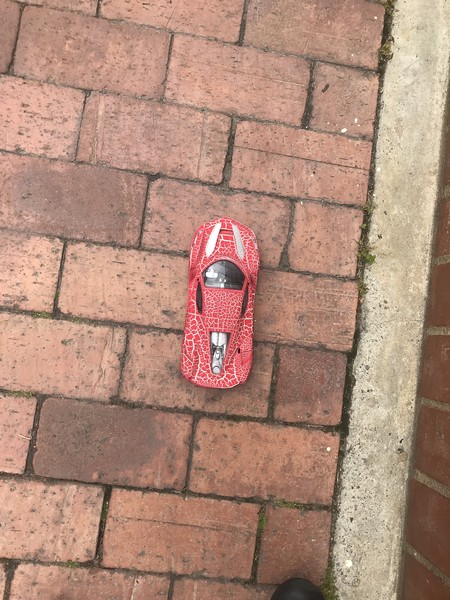RC: (178, 215, 262, 393)
